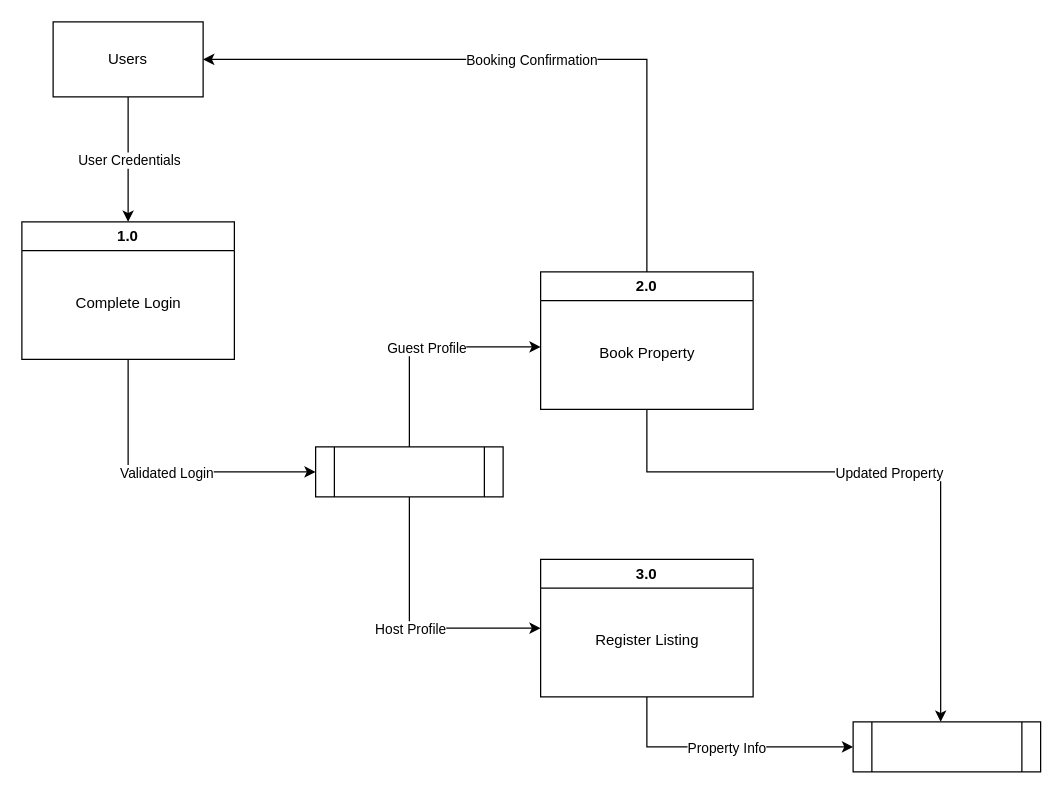
This 1063x794 diagram has some shape labels left out. The centre of each missing label's shape, as x and y in pixels:
Property Details: the point at 946,746
User Details: the point at 408,471
